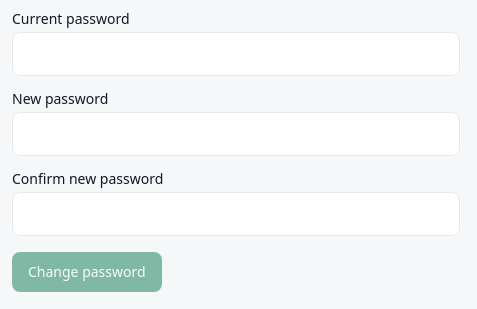
Scenario: ChangePasswordForm › disables submit until both current and new password are filled
Expected: the button "Change password" is disabled, [12,252,162,292]
Type "old-password" into the password field labelled "Current password" at (236, 54), box [12,32,460,76]
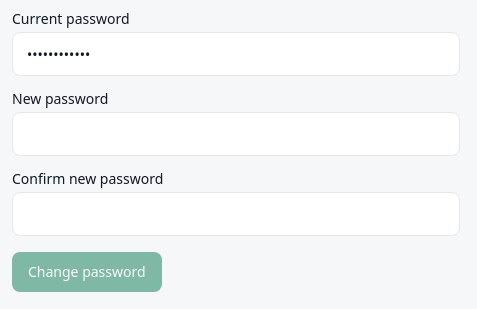
Expected: the button "Change password" is disabled, [12,252,162,292]
Type "new-password-1" into the password field labelled "New password" at (236, 134), box [12,112,460,156]
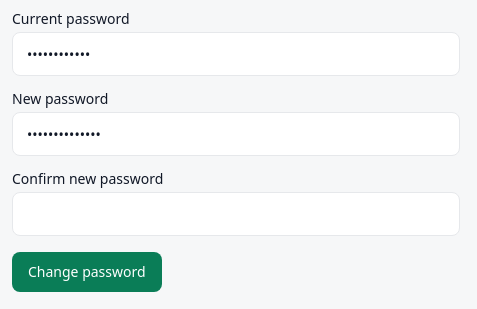
Expected: the button "Change password" is enabled, [12,252,162,292]
